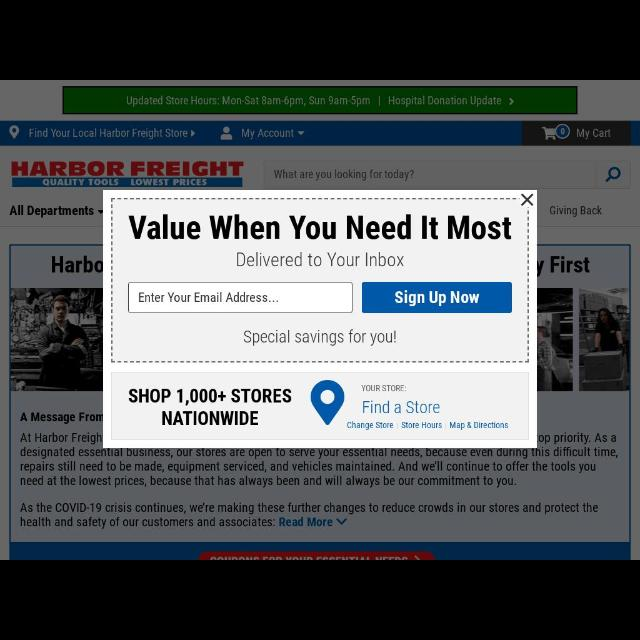button: (598, 162, 630, 188)
icon: (311, 380, 345, 426), (220, 126, 232, 142), (520, 192, 534, 205), (608, 168, 620, 182), (9, 125, 19, 138), (508, 97, 516, 107), (334, 518, 346, 524), (298, 130, 304, 136), (190, 130, 194, 138), (98, 210, 104, 214)
image: (12, 161, 244, 187), (542, 126, 570, 140)
input: (264, 162, 596, 188), (128, 282, 352, 312)
spinner: (10, 204, 104, 220)
text: (20, 433, 618, 489), (20, 503, 600, 529), (128, 213, 512, 243), (129, 388, 291, 424), (123, 94, 373, 108), (236, 251, 404, 269), (243, 328, 397, 346), (138, 291, 280, 305), (273, 168, 415, 182), (388, 94, 502, 108), (27, 128, 186, 138), (394, 291, 480, 307), (362, 400, 441, 416), (10, 205, 94, 218), (49, 254, 103, 274), (538, 256, 592, 276), (21, 412, 103, 424), (548, 204, 604, 218), (240, 128, 294, 138), (346, 420, 394, 430), (450, 421, 508, 429), (362, 384, 406, 394), (576, 128, 612, 140), (401, 421, 443, 431)
textbutton: (362, 282, 512, 312)
